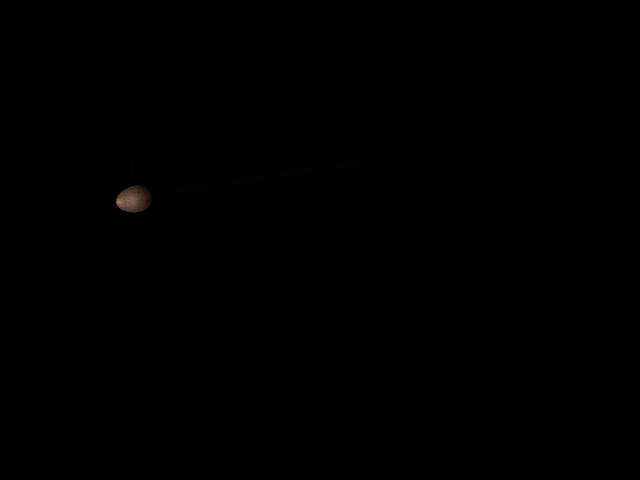egg: (113, 183, 154, 215)
